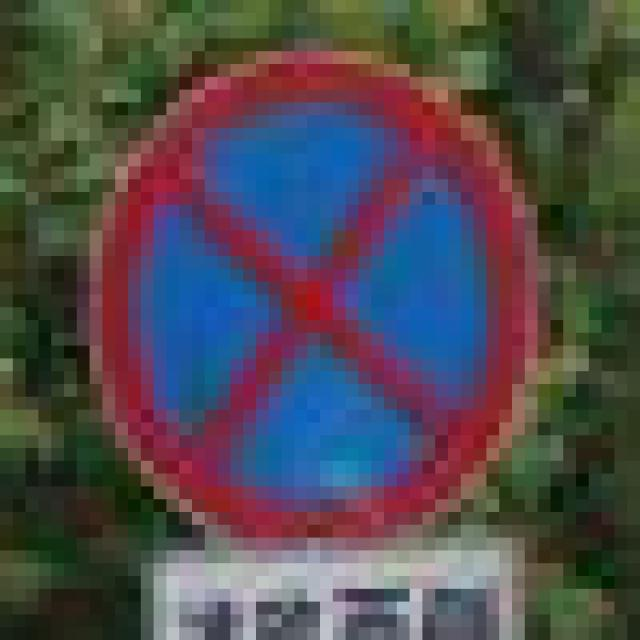no_parking: (64, 38, 525, 525)
